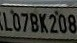character: (28, 11, 40, 32), (38, 11, 49, 33), (2, 11, 14, 31), (47, 13, 58, 33), (19, 11, 29, 32), (57, 13, 67, 33), (67, 14, 77, 34), (11, 12, 21, 31)
